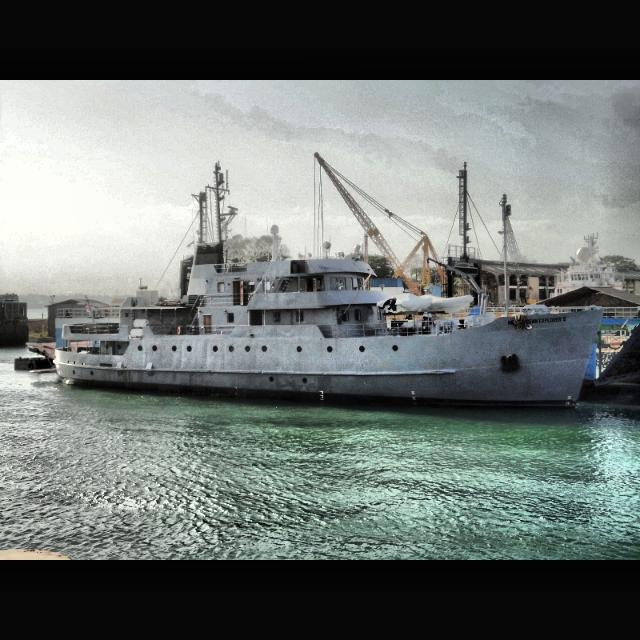patrol_vessel: (54, 158, 606, 414)
